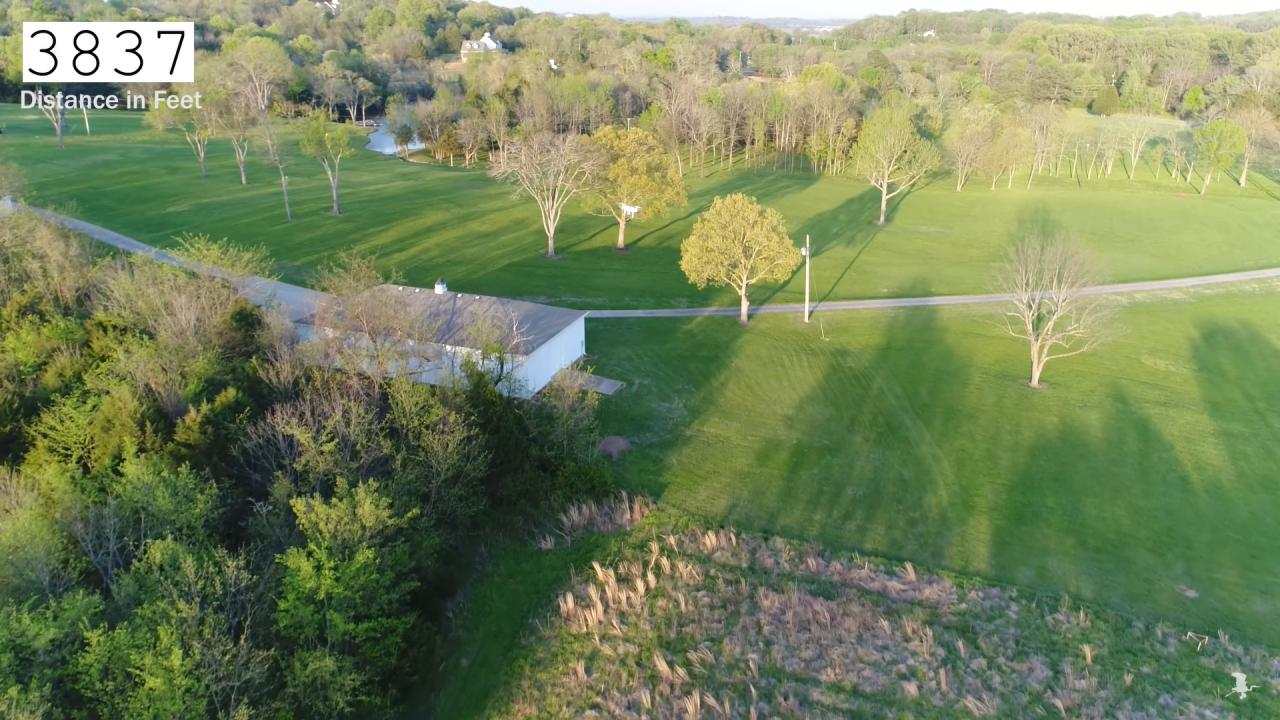Drone: (612, 198, 648, 223)
